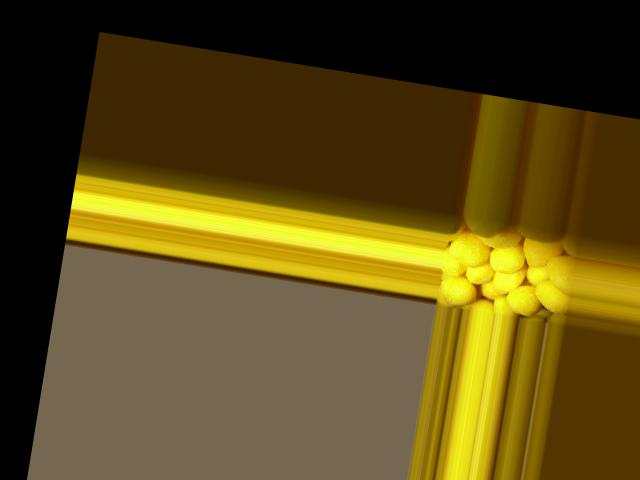lemon: (500, 282, 551, 320)
